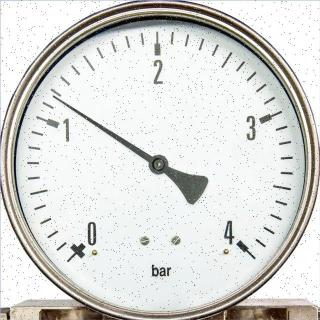gauge: (1, 1, 319, 319), (62, 229, 98, 267), (223, 226, 257, 262), (147, 152, 169, 176), (48, 90, 62, 104)
